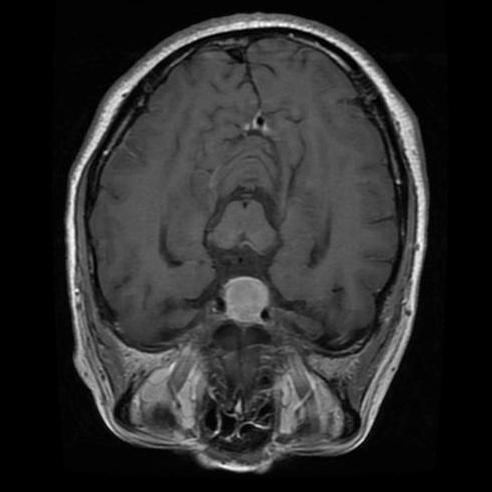Tumour-Pituitary: (213, 271, 276, 326)
